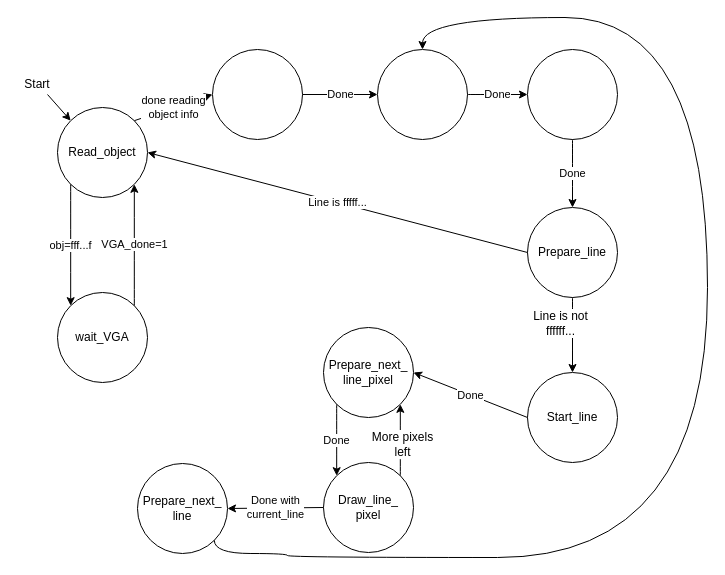
Some shapes in this 725 by 575 pixel diagram are drawn without their labels. Each missing label, with the centre of its shape:
Calc_rotated: the point at 572,94
Calc_trig: the point at 257,94
Fetch_line: the point at 422,94
